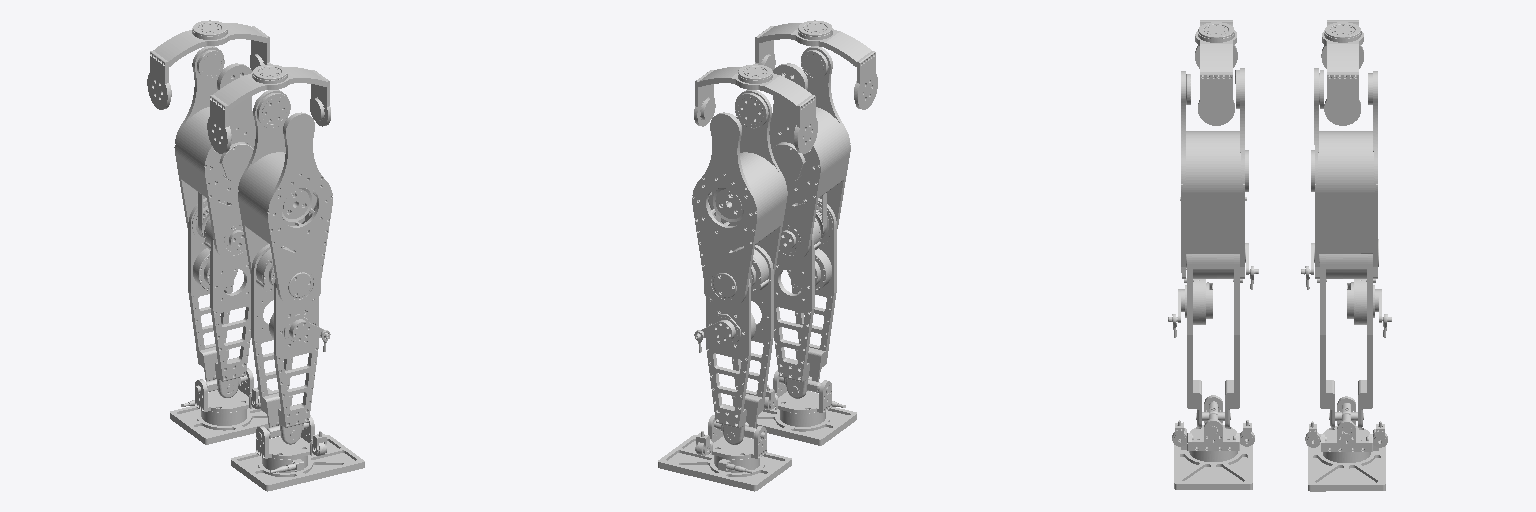
The robot description file, URDF, robot "total_robot_nl":
<?xml version="1.0" ?>
<robot name="total_robot_nl" xmlns:xacro="http://www.ros.org/wiki/xacro">

<link name = "world"/>
<link name = "base_link"/>
<link name = "pitch"/>
<link name="pelvis">
  <inertial>
    <origin xyz="-0.00020305658642525651 -2.299524657931652e-06 0.1172286439789711" rpy="0 0 0"/>
    <mass value="5.152280783786209"/>
    <inertia ixx="0.047442" iyy="0.033846" izz="0.037155" ixy="-0.0" iyz="-1e-06" ixz="0.000292"/>
  </inertial>
  <visual>
    <origin xyz="0 0 0" rpy="0 0 0"/>
    <geometry>
      <mesh filename="package://ik_test/meshes/meshes/base_link.stl" scale="0.001 0.001 0.001"/>
    </geometry>
    <material name="silver">
      <color rgba="0.85 0.85 0.85 1.000"/>
    </material>
  </visual>
  <collision>
    <origin xyz="0 0 0" rpy="0 0 0"/>
    <geometry>
      <mesh filename="package://ik_test/meshes/meshes/base_link.stl" scale="0.001 0.001 0.001"/>
    </geometry>
  </collision>
</link>

<link name="right_yaw">
  <inertial>
    <origin xyz="-0.003387170114723884 3.4379261523720395e-07 -0.044730635776334654" rpy="0 0 0"/>
    <mass value="0.23424145827439846"/>
    <inertia ixx="0.000378" iyy="0.001666" izz="0.001409" ixy="0.0" iyz="0.0" ixz="-4.5e-05"/>
  </inertial>
  <visual>
    <origin xyz="0.001536 0.105 -0.006958" rpy="0 0 0"/>
    <geometry>
      <mesh filename="package://ik_test/meshes/meshes/right_yaw.stl" scale="0.001 0.001 0.001"/>
    </geometry>
    <material name="silver">
      <color rgba="0.85 0.85 0.85 1.000"/>
    </material>
  </visual>
  <collision>
    <origin xyz="0.001536 0.105 -0.006958" rpy="0 0 0"/>
    <geometry>
      <mesh filename="package://ik_test/meshes/meshes/right_yaw.stl" scale="0.001 0.001 0.001"/>
    </geometry>
  </collision>
</link>

<link name="right_rp">
  <inertial>
    <origin xyz="0.10181214463951233 -0.002214028202584803 -6.154780610961863e-05" rpy="0 0 0"/>
    <mass value="0.690812556297437"/>
    <inertia ixx="0.00118" iyy="0.00287" izz="0.00271" ixy="4.3e-05" iyz="-6e-06" ixz="-4e-06"/>
  </inertial>
  <visual>
    <origin xyz="0.100286 0.105 0.088598" rpy="0 0 0"/>
    <geometry>
      <mesh filename="package://ik_test/meshes/meshes/right_rp.stl" scale="0.001 0.001 0.001"/>
    </geometry>
    <material name="silver">
      <color rgba="0.85 0.85 0.85 1.000"/>
    </material>
  </visual>
  <collision>
    <origin xyz="0.100286 0.105 0.088598" rpy="0 0 0"/>
    <geometry>
      <mesh filename="package://ik_test/meshes/meshes/right_rp.stl" scale="0.001 0.001 0.001"/>
    </geometry>
  </collision>
</link>

<link name="right_upper_link">
  <inertial>
    <origin xyz="0.002301542175954175 0.04652710593919482 -0.15079668153621606" rpy="0 0 0"/>
    <mass value="0.9258424873332725"/>
    <inertia ixx="0.006961" iyy="0.006745" izz="0.002544" ixy="7e-06" iyz="-0.000146" ixz="0.000217"/>
  </inertial>
  <visual>
    <origin xyz="-0.026414 0.1545 0.088641" rpy="0 0 0"/>
    <geometry>
      <mesh filename="package://ik_test/meshes/meshes/right_upper_link.stl" scale="0.001 0.001 0.001"/>
    </geometry>
    <material name="silver">
      <color rgba="0.85 0.85 0.85 1.000"/>
    </material>
  </visual>
  <collision>
    <origin xyz="-0.026414 0.1545 0.088641" rpy="0 0 0"/>
    <geometry>
      <mesh filename="package://ik_test/meshes/meshes/right_upper_link.stl" scale="0.001 0.001 0.001"/>
    </geometry>
  </collision>
</link>

<link name="right_lower_link">
  <inertial>
    <origin xyz="0.001498001214367918 0.04197691706798522 -0.08163965093235381" rpy="0 0 0"/>
    <mass value="0.6817251658718579"/>
    <inertia ixx="0.007024" iyy="0.006492" izz="0.001195" ixy="-0.0" iyz="-4.5e-05" ixz="-5.2e-05"/>
  </inertial>
  <visual>
    <origin xyz="-0.026414 0.155038 0.388641" rpy="0 0 0"/>
    <geometry>
      <mesh filename="package://ik_test/meshes/meshes/right_lower_link.stl" scale="0.001 0.001 0.001"/>
    </geometry>
    <material name="silver">
      <color rgba="0.85 0.85 0.85 1.000"/>
    </material>
  </visual>
  <collision>
    <origin xyz="-0.026414 0.155038 0.388641" rpy="0 0 0"/>
    <geometry>
      <mesh filename="package://ik_test/meshes/meshes/right_lower_link.stl" scale="0.001 0.001 0.001"/>
    </geometry>
  </collision>
</link>

<link name="right_ankle">
  <inertial>
    <origin xyz="4.824912801307257e-07 -0.025750366558067603 3.398427368073165e-05" rpy="0 0 0"/>
    <mass value="0.03255793420333914"/>
    <inertia ixx="5e-06" iyy="1.7e-05" izz="2e-05" ixy="-0.0" iyz="-0.0" ixz="0.0"/>
  </inertial>
  <visual>
    <origin xyz="-0.026414 0.083977 0.68858" rpy="0 0 0"/>
    <geometry>
      <mesh filename="package://ik_test/meshes/meshes/right_ankle.stl" scale="0.001 0.001 0.001"/>
    </geometry>
    <material name="silver">
      <color rgba="0.85 0.85 0.85 1.000"/>
    </material>
  </visual>
  <collision>
    <origin xyz="-0.026414 0.083977 0.68858" rpy="0 0 0"/>
    <geometry>
      <mesh filename="package://ik_test/meshes/meshes/right_ankle.stl" scale="0.001 0.001 0.001"/>
    </geometry>
  </collision>
</link>

<link name="right_foot">
  <inertial>
    <origin xyz="0.06161519535511249 -0.0005768277267058086 -0.0580822077884815" rpy="0 0 0"/>
    <mass value="0.4255598361250292"/>
    <inertia ixx="0.000686" iyy="0.001174" izz="0.001512" ixy="-8e-06" iyz="2e-06" ixz="3.2e-05"/>
  </inertial>
  <visual>
    <origin xyz="0.017586 0.109727 0.688602" rpy="0 0 0"/>
    <geometry>
      <mesh filename="package://ik_test/meshes/meshes/right_foot.stl" scale="0.001 0.001 0.001"/>
    </geometry>
    <material name="silver">
      <color rgba="0.85 0.85 0.85 1.000"/>
    </material>
  </visual>
  <collision>
    <origin xyz="0.017586 0.109727 0.688602" rpy="0 0 0"/>
    <geometry>
      <mesh filename="package://ik_test/meshes/meshes/right_foot.stl" scale="0.001 0.001 0.001"/>
    </geometry>
  </collision>
</link>

<link name="left_yaw">
  <inertial>
    <origin xyz="-0.003387170113489349 3.437926530541757e-07 -0.04472797689299879" rpy="0 0 0"/>
    <mass value="0.23424145827233966"/>
    <inertia ixx="0.000378" iyy="0.001666" izz="0.001409" ixy="0.0" iyz="-0.0" ixz="-4.5e-05"/>
  </inertial>
  <visual>
    <origin xyz="0.001536 -0.105 -0.006958" rpy="0 0 0"/>
    <geometry>
      <mesh filename="package://ik_test/meshes/meshes/left_yaw.stl" scale="0.001 0.001 0.001"/>
    </geometry>
    <material name="silver">
      <color rgba="0.85 0.85 0.85 1.000"/>
    </material>
  </visual>
  <collision>
    <origin xyz="0.001536 -0.105 -0.006958" rpy="0 0 0"/>
    <geometry>
      <mesh filename="package://ik_test/meshes/meshes/left_yaw.stl" scale="0.001 0.001 0.001"/>
    </geometry>
  </collision>
</link>

<link name="left_rp">
  <inertial>
    <origin xyz="0.101812158986685 0.002214840752492689 -5.654296421113425e-05" rpy="0 0 0"/>
    <mass value="0.6908122901011517"/>
    <inertia ixx="0.00118" iyy="0.002869" izz="0.00271" ixy="-4.3e-05" iyz="7e-06" ixz="-4e-06"/>
  </inertial>
  <visual>
    <origin xyz="0.100286 -0.105 0.088598" rpy="0 0 0"/>
    <geometry>
      <mesh filename="package://ik_test/meshes/meshes/left_rp.stl" scale="0.001 0.001 0.001"/>
    </geometry>
    <material name="silver">
      <color rgba="0.85 0.85 0.85 1.000"/>
    </material>
  </visual>
  <collision>
    <origin xyz="0.100286 -0.105 0.088598" rpy="0 0 0"/>
    <geometry>
      <mesh filename="package://ik_test/meshes/meshes/left_rp.stl" scale="0.001 0.001 0.001"/>
    </geometry>
  </collision>
</link>

<link name="left_upper_link">
  <inertial>
    <origin xyz="0.0023146429745539224 -0.04618851476471701 -0.1508794685104973" rpy="0 0 0"/>
    <mass value="0.9255380783714433"/>
    <inertia ixx="0.006959" iyy="0.006742" izz="0.002543" ixy="-8e-06" iyz="0.000155" ixz="0.000218"/>
  </inertial>
  <visual>
    <origin xyz="-0.026414 -0.1545 0.088529" rpy="0 0 0"/>
    <geometry>
      <mesh filename="package://ik_test/meshes/meshes/left_upper_link.stl" scale="0.001 0.001 0.001"/>
    </geometry>
    <material name="silver">
      <color rgba="0.85 0.85 0.85 1.000"/>
    </material>
  </visual>
  <collision>
    <origin xyz="-0.026414 -0.1545 0.088529" rpy="0 0 0"/>
    <geometry>
      <mesh filename="package://ik_test/meshes/meshes/left_upper_link.stl" scale="0.001 0.001 0.001"/>
    </geometry>
  </collision>
</link>

<link name="left_ankle">
  <inertial>
    <origin xyz="-1.2225763775797205e-06 -0.025749598050639727 1.968676151820059e-05" rpy="0 0 0"/>
    <mass value="0.032557947198084525"/>
    <inertia ixx="5e-06" iyy="1.7e-05" izz="2e-05" ixy="0.0" iyz="-0.0" ixz="-0.0"/>
  </inertial>
  <visual>
    <origin xyz="-0.026414 -0.137138 0.688553" rpy="0 0 0"/>
    <geometry>
      <mesh filename="package://ik_test/meshes/meshes/left_ankle.stl" scale="0.001 0.001 0.001"/>
    </geometry>
    <material name="silver">
      <color rgba="0.85 0.85 0.85 1.000"/>
    </material>
  </visual>
  <collision>
    <origin xyz="-0.026414 -0.137138 0.688553" rpy="0 0 0"/>
    <geometry>
      <mesh filename="package://ik_test/meshes/meshes/left_ankle.stl" scale="0.001 0.001 0.001"/>
    </geometry>
  </collision>
</link>

<link name="left_lower_link">
  <inertial>
    <origin xyz="0.0014979772223235738 -0.04849178023636136 -0.08174396151435326" rpy="0 0 0"/>
    <mass value="0.6817257546564137"/>
    <inertia ixx="0.007024" iyy="0.006492" izz="0.001195" ixy="0.0" iyz="5.7e-05" ixz="-5.2e-05"/>
  </inertial>
  <visual>
    <origin xyz="-0.026414 -0.162719 0.388517" rpy="0 0 0"/>
    <geometry>
      <mesh filename="package://ik_test/meshes/meshes/left_lower_link.stl" scale="0.001 0.001 0.001"/>
    </geometry>
    <material name="silver">
      <color rgba="0.85 0.85 0.85 1.000"/>
    </material>
  </visual>
  <collision>
    <origin xyz="-0.026414 -0.162719 0.388517" rpy="0 0 0"/>
    <geometry>
      <mesh filename="package://ik_test/meshes/meshes/left_lower_link.stl" scale="0.001 0.001 0.001"/>
    </geometry>
  </collision>
</link>

<link name="left_foot">
  <inertial>
    <origin xyz="0.06601606411021572 0.0006641852928514075 -0.058081445541025456" rpy="0 0 0"/>
    <mass value="0.42555979909734665"/>
    <inertia ixx="0.000686" iyy="0.001174" izz="0.001512" ixy="8e-06" iyz="-2e-06" ixz="3.2e-05"/>
  </inertial>
  <visual>
    <origin xyz="0.017586 -0.111388 0.688589" rpy="0 0 0"/>
    <geometry>
      <mesh filename="package://ik_test/meshes/meshes/left_foot.stl" scale="0.001 0.001 0.001"/>
    </geometry>
    <material name="silver">
      <color rgba="0.85 0.85 0.85 1.000"/>
    </material>
  </visual>
  <collision>
    <origin xyz="0.017586 -0.111388 0.688589" rpy="0 0 0"/>
    <geometry>
      <mesh filename="package://ik_test/meshes/meshes/left_foot.stl" scale="0.001 0.001 0.001"/>
    </geometry>
  </collision>
</link>


<joint name="pel_roll" type="revolute">
  <origin xyz="0 0 0" rpy="0 0 0"/>
  <parent link="world"/>
  <child link="base_link"/>
  <axis xyz="1 0 0"/>
  <limit upper="3.141592" lower="-3.141592" effort="100" velocity="100"/>
</joint>

<joint name="pel_pitch" type="revolute">
  <origin xyz="0 0 0" rpy="0 0 0"/>
  <parent link="base_link"/>
  <child link="pitch"/>
  <axis xyz="0 1 0"/>
  <limit upper="3.141592" lower="-3.141592" effort="100" velocity="100"/>
</joint>

<joint name="pel_yaw" type="revolute">
  <origin xyz="0 0 0" rpy="0 0 0"/>
  <parent link="pitch"/>
  <child link="pelvis"/>
  <axis xyz="0 0 1"/>
  <limit upper="3.141592" lower="-3.141592" effort="100" velocity="100"/>
</joint>

<joint name="hip_yaw_right" type="revolute">
  <origin xyz="-0.001536 -0.105 0.006958" rpy="0 0 0"/>
  <parent link="pelvis"/>
  <child link="right_yaw"/>
  <axis xyz="0.0 -0.0 1.0"/>
  <limit upper="1.570796" lower="-0.698132" effort="100" velocity="100"/>
</joint>

<joint name="hip_roll_right" type="revolute">
  <origin xyz="-0.09875 0.0 -0.095556" rpy="0 0 0"/>
  <parent link="right_yaw"/>
  <child link="right_rp"/>
  <axis xyz="-1.0 -0.0 0.0"/>
  <limit upper="0.872665" lower="-1.570796" effort="100" velocity="100"/>
</joint>

<joint name="hip_pitch_right" type="revolute">
  <origin xyz="0.1267 -0.0495 -4.3e-05" rpy="0 0 0"/>
  <parent link="right_rp"/>
  <child link="right_upper_link"/>
  <axis xyz="-0.0 -1.0 -0.000871"/>
  <limit upper="1.832596" lower="-0.523599" effort="100" velocity="100"/>
</joint>

<joint name="knee_right" type="revolute">
  <origin xyz="0.0 -0.000538 -0.3" rpy="0 0 0"/>
  <parent link="right_upper_link"/>
  <child link="right_lower_link"/>
  <axis xyz="-0.0 1.0 0"/>
  <limit upper="0.0" lower="-2.129302" effort="100" velocity="100"/>
</joint>

<joint name="ankle_pitch_right" type="revolute">
  <origin xyz="0.0 0.071061 -0.299939" rpy="0 0 0"/>
  <parent link="right_lower_link"/>
  <child link="right_ankle"/>
  <axis xyz="-0.0 1.0 0"/>
  <limit upper="1.22173" lower="-1.047198" effort="100" velocity="100"/>
</joint>

<joint name="ankle_roll_right" type="revolute">
  <origin xyz="-0.044 -0.02575 -2.2e-05" rpy="0 0 0"/>
  <parent link="right_ankle"/>
  <child link="right_foot"/>
  <axis xyz="1.0 -0.0 0.0"/>
  <limit upper="0.663225" lower="-0.523599" effort="100" velocity="100"/>
</joint>

<joint name="hip_yaw_left" type="revolute">
  <origin xyz="-0.001536 0.105 0.006958" rpy="0 0 0"/>
  <parent link="pelvis"/>
  <child link="left_yaw"/>
  <axis xyz="0.0 0.0 1.0"/>
  <limit upper="0.698132" lower="-1.570796" effort="100" velocity="100"/>
</joint>

<joint name="hip_roll_left" type="revolute">
  <origin xyz="-0.09875 0.0 -0.095556" rpy="0 0 0"/>
  <parent link="left_yaw"/>
  <child link="left_rp"/>
  <axis xyz="-1.0 0.0 -0.0"/>
  <limit upper="0.698132" lower="-1.570796" effort="100" velocity="100"/>
</joint>

<joint name="hip_pitch_left" type="revolute">
  <origin xyz="0.1267 0.0495 6.9e-05" rpy="0 0 0"/>
  <parent link="left_rp"/>
  <child link="left_upper_link"/>
  <axis xyz="-0.0 1 0"/>
  <limit upper="1.832596" lower="-0.523599" effort="100" velocity="100"/>
</joint>

<joint name="knee_left" type="revolute">
  <origin xyz="0.0 0.008219 -0.299988" rpy="0 0 0"/>
  <parent link="left_upper_link"/>
  <child link="left_lower_link"/>
  <axis xyz="-0.0 -0.999999 -0.001397"/>
  <limit upper="0.0" lower="-2.129302" effort="100" velocity="100"/>
</joint>

<joint name="ankle_pitch_left" type="revolute">
  <origin xyz="0.0 -0.025581 -0.300036" rpy="0 0 0"/>
  <parent link="left_lower_link"/>
  <child link="left_ankle"/>
  <axis xyz="-0.0 1 0"/>
  <limit upper="1.22173" lower="-1.047198" effort="100" velocity="100"/>
</joint>

<joint name="ankle_roll_left" type="revolute">
  <origin xyz="-0.044 -0.02575 -3.6e-05" rpy="0 0 0"/>
  <parent link="left_ankle"/>
  <child link="left_foot"/>
  <axis xyz="1.0 0.0 -0.0"/>
  <limit upper="0.663225" lower="-0.523599" effort="100" velocity="100"/>
</joint>

</robot>

--- Render facts (derived) ---
The picture shows the robot from 3 angles, left to right: view 1: azimuth 30°, elevation 25°; view 2: azimuth 150°, elevation 25°; view 3: azimuth 270°, elevation 25°; orthographic projection.
Model total_robot_nl with 16 links and 15 joints (15 revolute), rooted at world, posed every joint at zero.
Links seen in each view (by area): view 1: right_upper_link, left_upper_link, right_lower_link, left_lower_link, right_foot, right_yaw, left_foot, left_yaw; view 2: left_upper_link, right_upper_link, left_lower_link, right_lower_link, left_foot, right_foot, left_yaw, right_yaw; view 3: right_upper_link, left_upper_link, right_foot, left_foot, left_lower_link, right_lower_link, right_yaw, left_yaw.
Boxes of the visible links, box(x1,y1,x2,y2) form: right_upper_link: box(238, 90, 332, 306); left_upper_link: box(174, 46, 255, 260); right_lower_link: box(251, 244, 330, 444); left_lower_link: box(188, 198, 250, 397); right_foot: box(231, 415, 364, 491); right_yaw: box(207, 64, 330, 153); left_foot: box(170, 368, 291, 444); left_yaw: box(147, 20, 270, 109); left_upper_link: box(692, 90, 787, 307); right_upper_link: box(769, 46, 850, 260); left_lower_link: box(694, 245, 773, 444); right_lower_link: box(774, 198, 836, 398); left_foot: box(658, 415, 791, 491); right_foot: box(756, 370, 856, 445); left_yaw: box(694, 64, 817, 153); right_yaw: box(755, 20, 877, 109); right_upper_link: box(1180, 68, 1248, 278); left_upper_link: box(1311, 68, 1377, 278); right_foot: box(1172, 395, 1254, 489); left_foot: box(1305, 396, 1387, 491); left_lower_link: box(1301, 239, 1391, 427); right_lower_link: box(1168, 243, 1258, 427); right_yaw: box(1195, 20, 1237, 125); left_yaw: box(1321, 20, 1363, 125).
Size in the robot's own frame: 0.2639 by 0.3709 by 0.7731 metres.
10 mesh visuals loaded from 13 distinct referenced files (10 binary STL); not drawn: 3 (reference not matched to a file when rendering).
